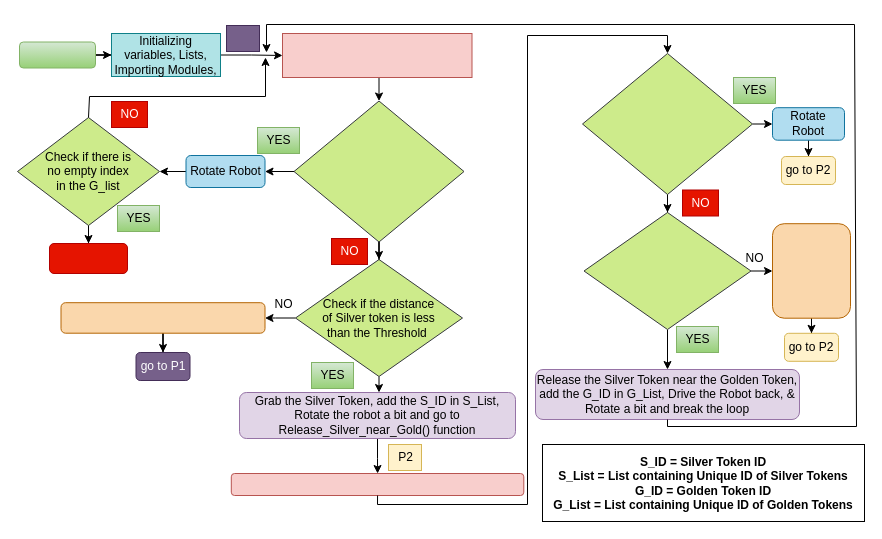
The diagram is 882 pixels wide and 539 high, and some of its shapes have lost their labels. Here are the shapes that lost their labels. From the top down, the centre of each, then its label:
At point 57,54: "Start".
At point 243,38: "P1".
At point 377,55: "Reading Unique ID, Distance, & rotation of visible Silver or Golden Token".
At point 667,123: "Check if current G_ID is already present in the G_List".
At point 378,171: "Check if current S_ID is already present in the S_List".
At point 88,258: "exit code".
At point 667,271: "Check if the distance of Golden token is less than the Threshold".
At point 811,270: "Drive the Robot forward and turn it a bit to align with the silver token".
At point 162,317: "Drive the Robot forward and rotate it a bit to align with the silver token".
At point 377,484: "Read Unique ID, Dist, and Rot of visible Golden Token".
